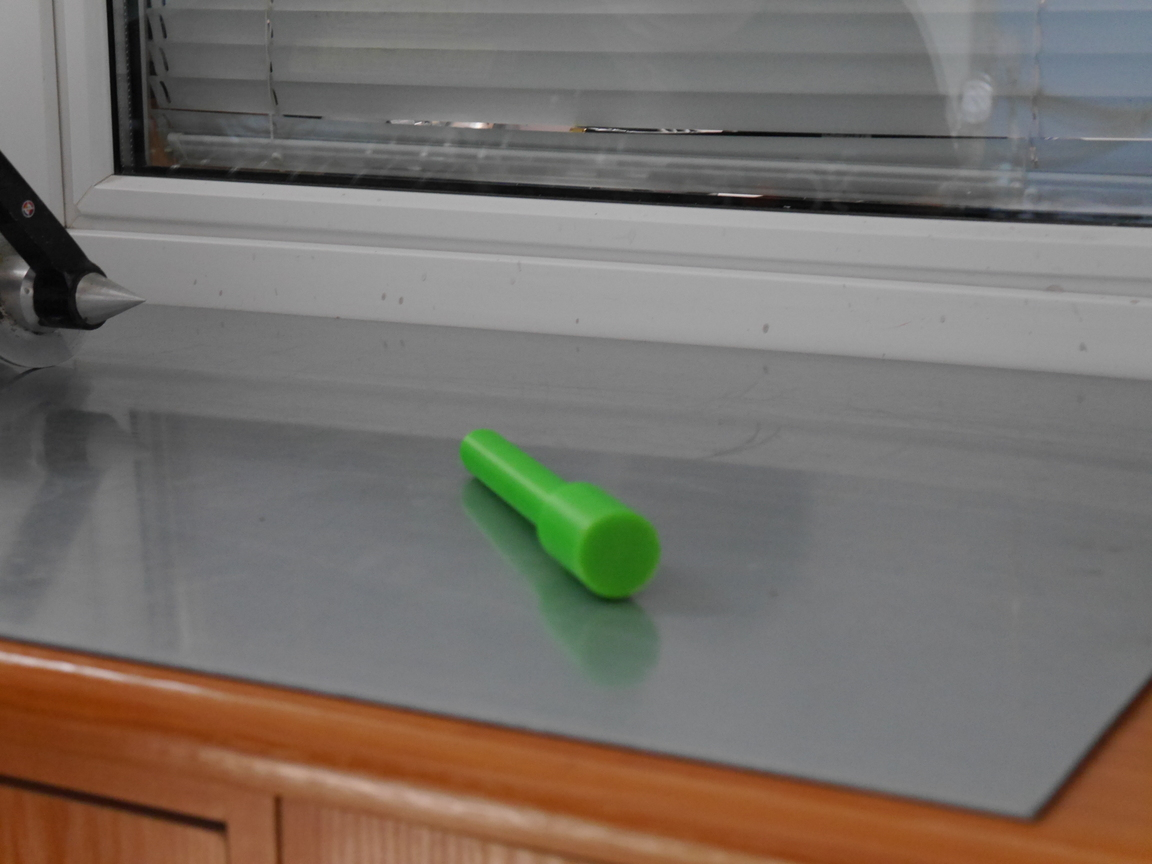cargo_g: (457, 427, 659, 603)
